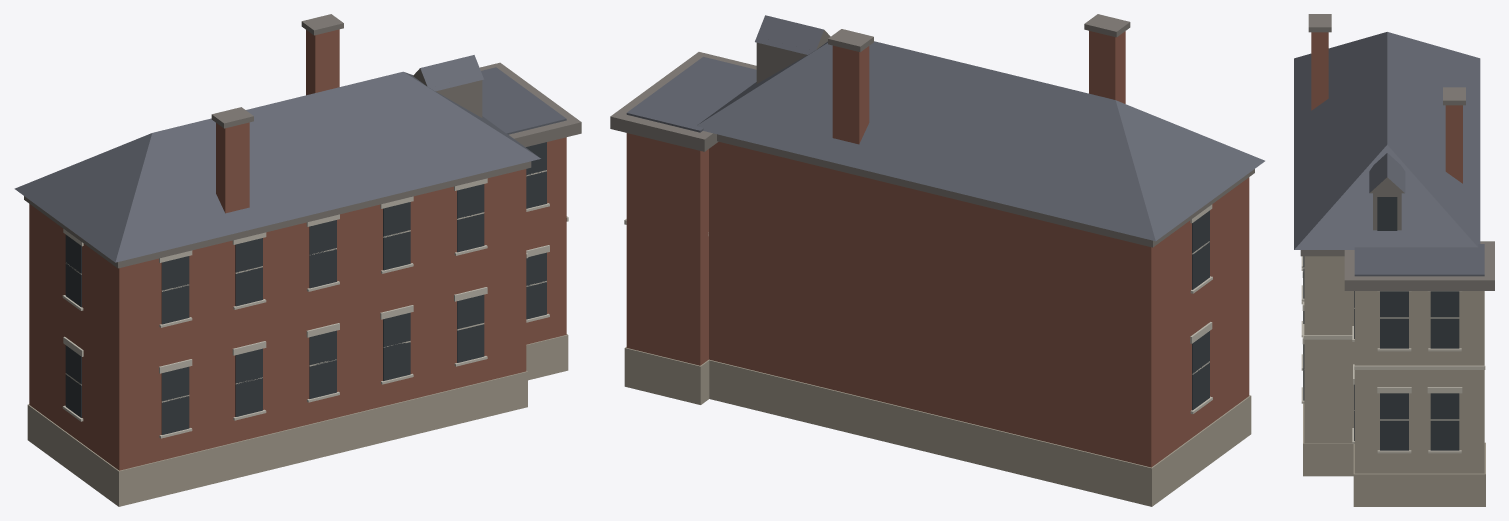
File: house_2001_prairie__draft_1904.glb
3 views of the same model, side by side, from view 1: azimuth 30°, elevation 25°; view 2: azimuth 150°, elevation 25°; view 3: azimuth 270°, elevation 25° (orthographic). The views are drawn at different scales.
Visible parts, largest first — view 1: house_2001_prairie__draft_1904; view 2: house_2001_prairie__draft_1904; view 3: house_2001_prairie__draft_1904.
Part boxes in pixels (x1,y1,x2,y2): house_2001_prairie__draft_1904: (14, 14, 581, 506); house_2001_prairie__draft_1904: (610, 14, 1264, 506); house_2001_prairie__draft_1904: (1294, 14, 1494, 506).
Size of the model in its own units: 18.2 by 12.5 by 6.95.
